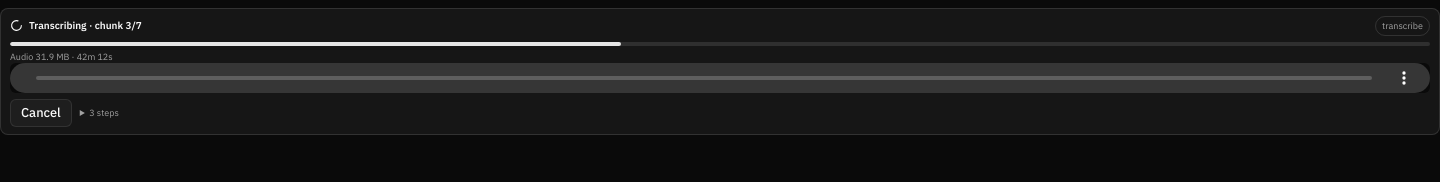
Test: JobProgress › shows the live chunk stage, cached audio and the reviewable step log
Expected: the text "Transcribing · chunk 3/7" is shown, 29,18 -> 142,33
Expected: the text "Audio 31.9 MB · 42m 12s" is shown, 10,50 -> 113,62
What coordinates should you click on to do the following:
click the heading "3 steps"
I would click on:
 (104, 113)
Its box is 89,107 -> 119,118.
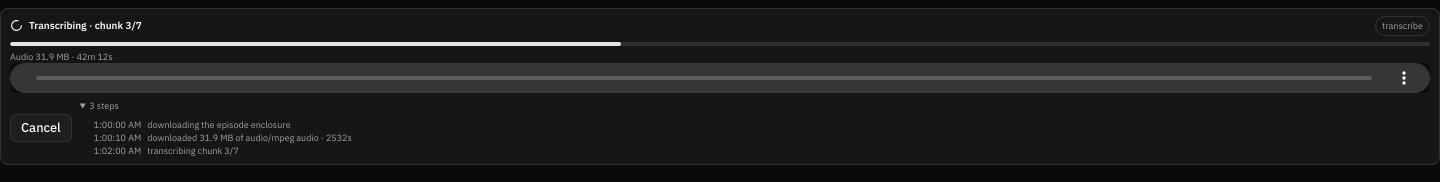
Expected: the list item "1:00:10 AM downloaded 31.9 MB of audio/mpeg audio · 2532s" is shown, 94,130 -> 352,144
